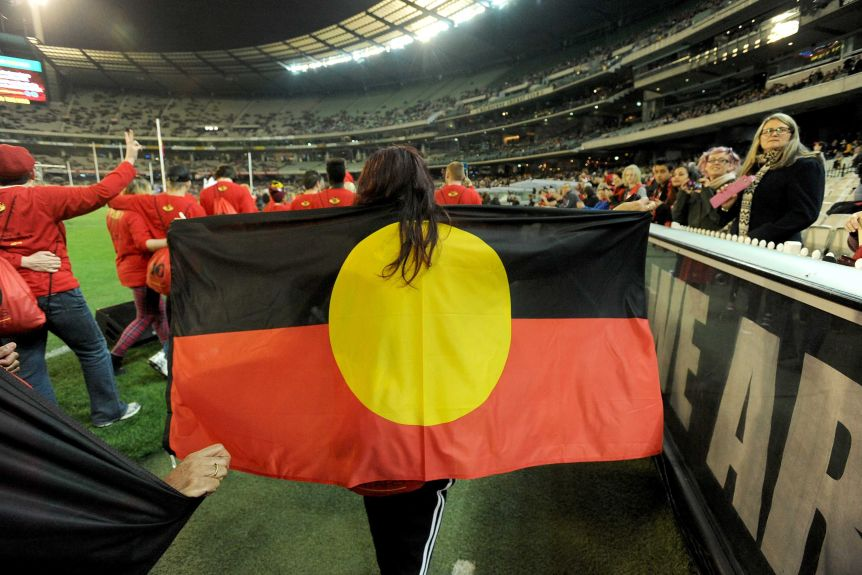aboriginal_flag: (156, 198, 683, 502)
